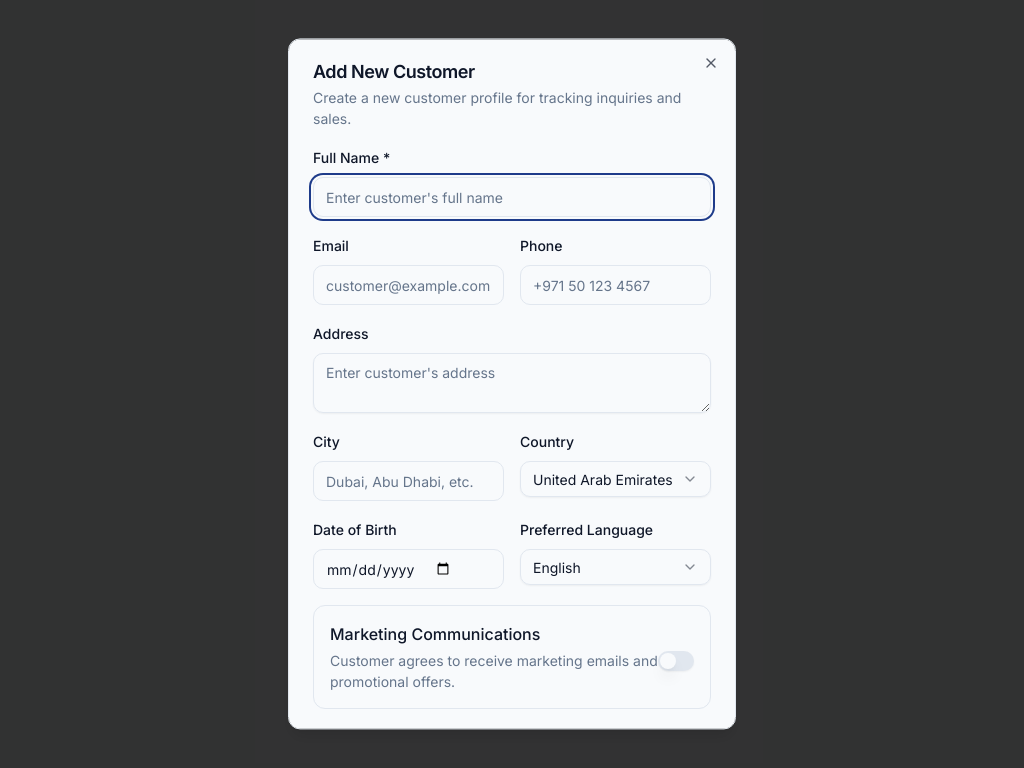
Test: CustomerForm › Form Validation › should validate minimum name length
The width and height of the screenshot is (1024, 768).
Type "A" into the field labelled "Full Name *".
click(512, 197); type("A")  # box [313,177,711,217]
(page scrolled)
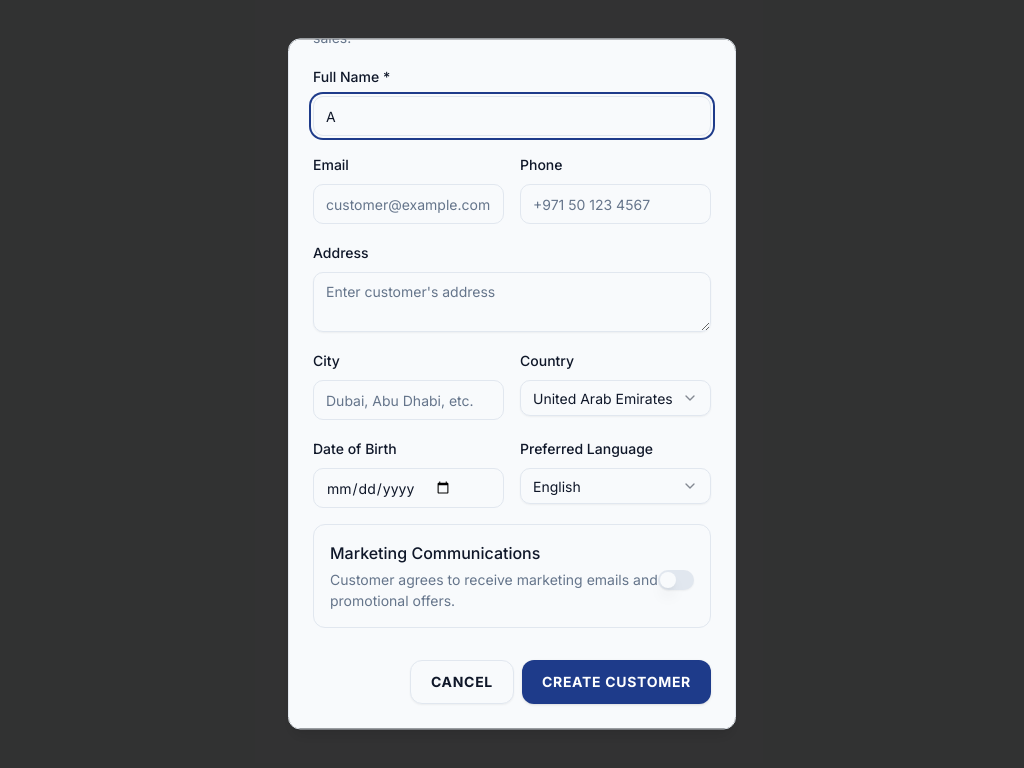
Click the button "Create Customer".
click(616, 682)  # box [522,660,711,704]
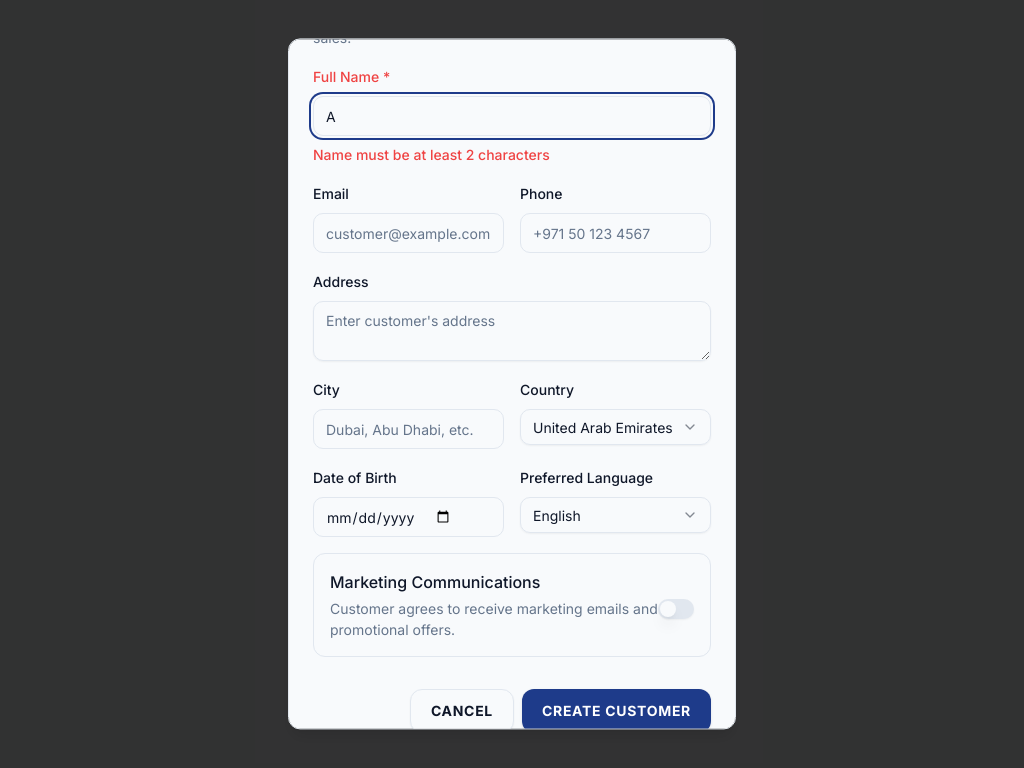
Expected: the text "Name must be at least 2 characters" is shown, [313,146,550,163]
